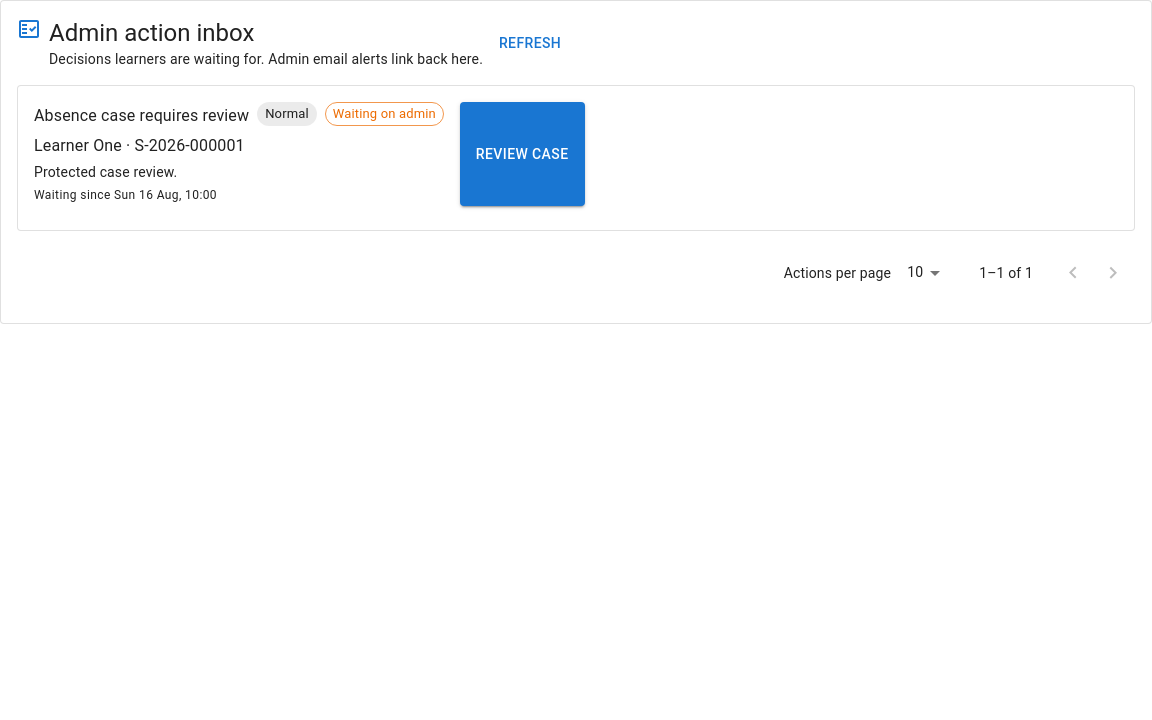
Test: admin absence conversation UI › lets the admin request text plus an attachment, then waits for the learner
This screenshot has width=1152, height=720.
Click the button "Review case".
click(522, 154)  # box [460, 102, 584, 206]
(page scrolled)
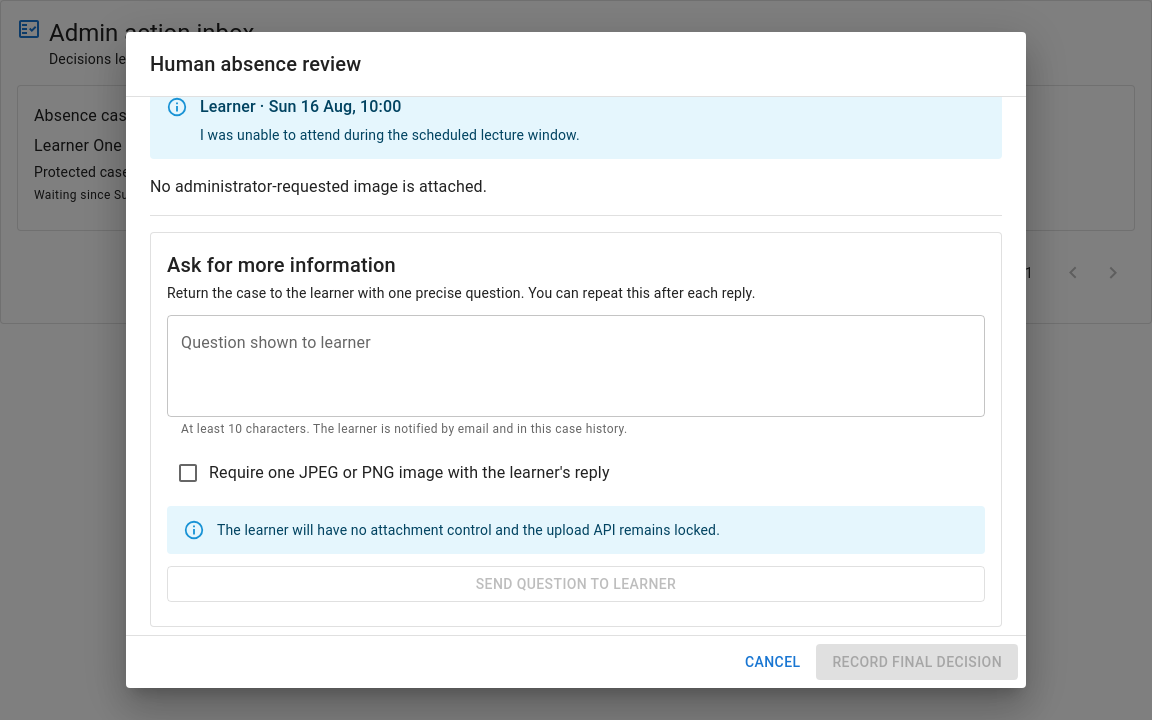
Type "Please explain the exact dates and include the official notice." into the text box labelled "Question shown to learner".
click(576, 366); type("Please explain the exact dates and include the official notice.")  # box [181, 332, 971, 400]
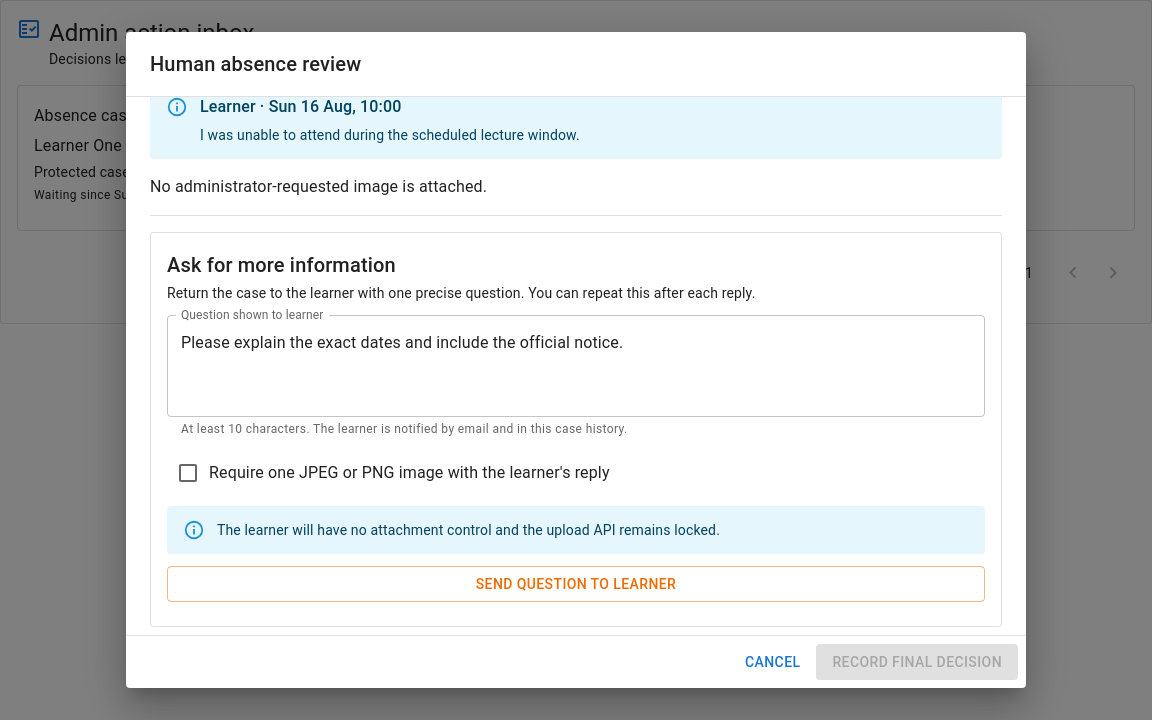
Click the checkbox labelled "Require one JPEG or PNG image with the learner's reply".
click(393, 473)  # box [176, 461, 610, 485]
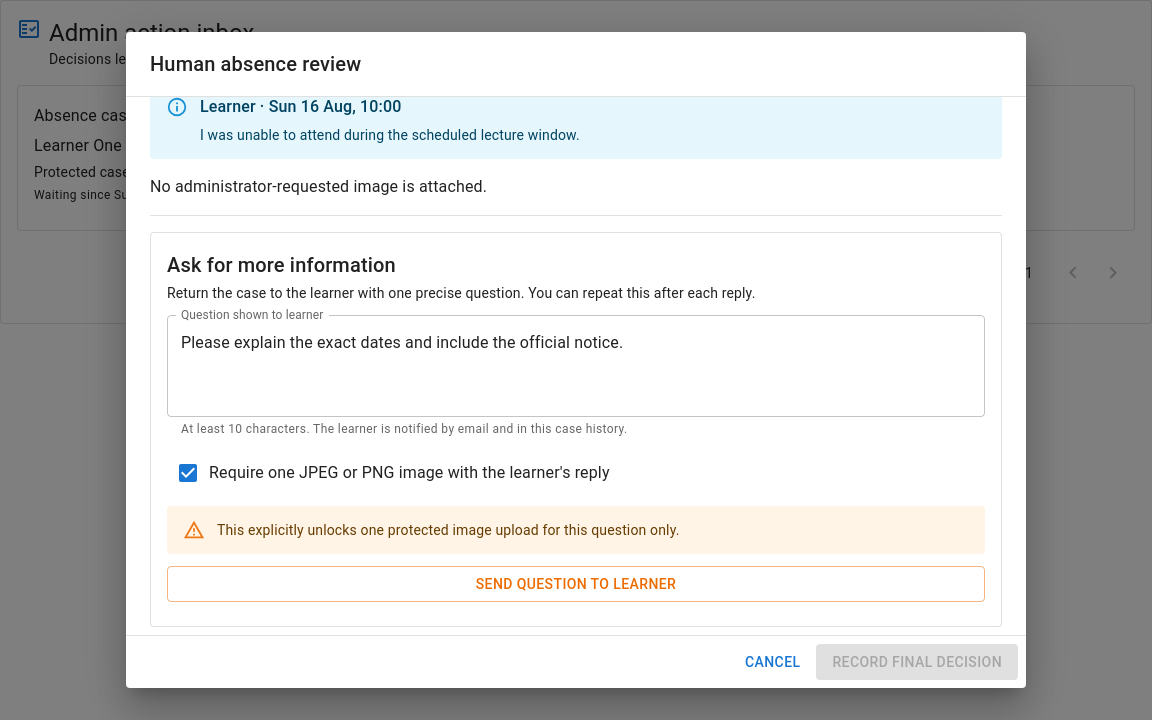
Click the button "Send question to learner".
click(576, 584)  # box [167, 566, 985, 602]
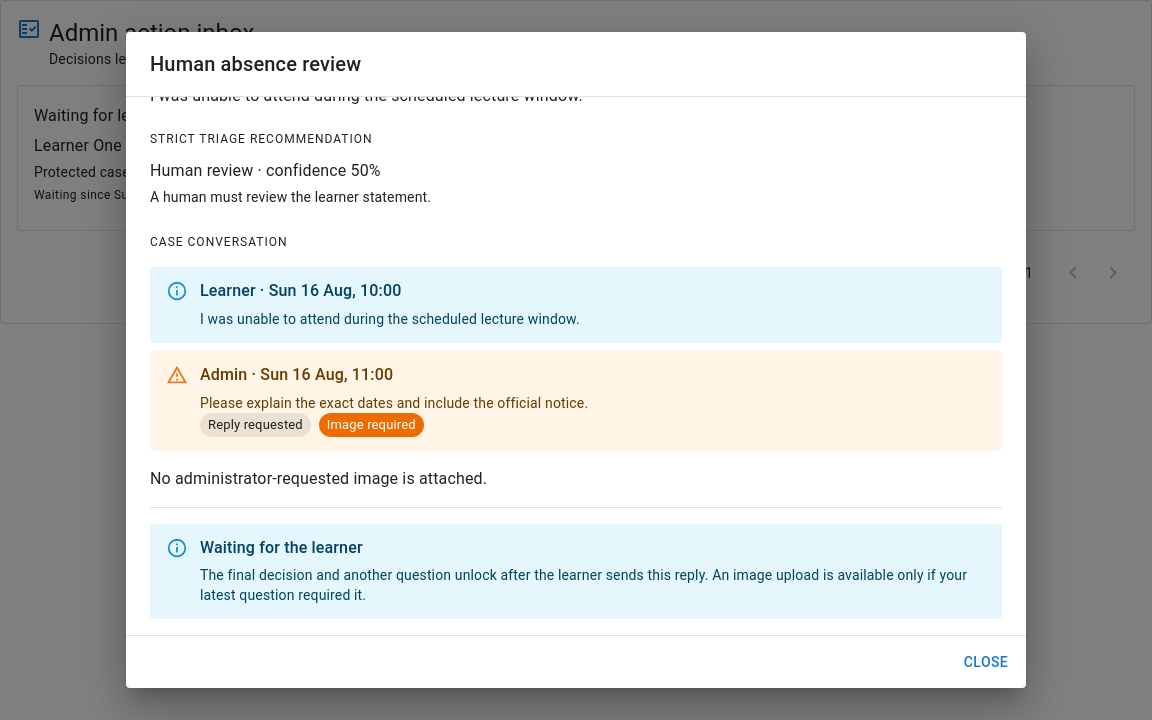
Now the text "Waiting for the learner" is shown, box [200, 538, 363, 557]
Now the button "Record final decision" is gone
